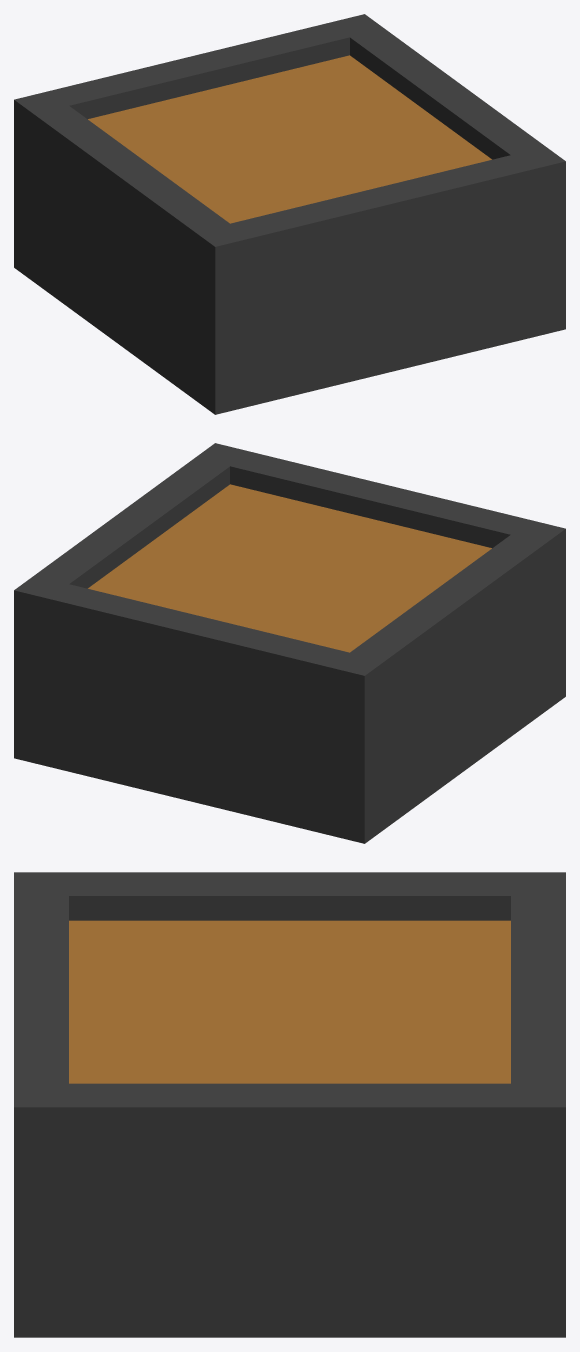
Rendered from pot.fbx.
3 renders of one model, top to bottom at view 1: azimuth 30°, elevation 25°; view 2: azimuth 150°, elevation 25°; view 3: azimuth 270°, elevation 25°, orthographic. The views are drawn at different scales.
Parts seen in each view (by area): view 1: plantPlace.003; view 2: plantPlace.003; view 3: plantPlace.003.
Boxes of the visible parts, x1,y1,x2,y2 form: plantPlace.003: (14, 14, 565, 414); plantPlace.003: (14, 443, 565, 843); plantPlace.003: (14, 872, 565, 1337).
Bounding box in the file's own units: 0.3946 × 0.1806 × 0.392.
